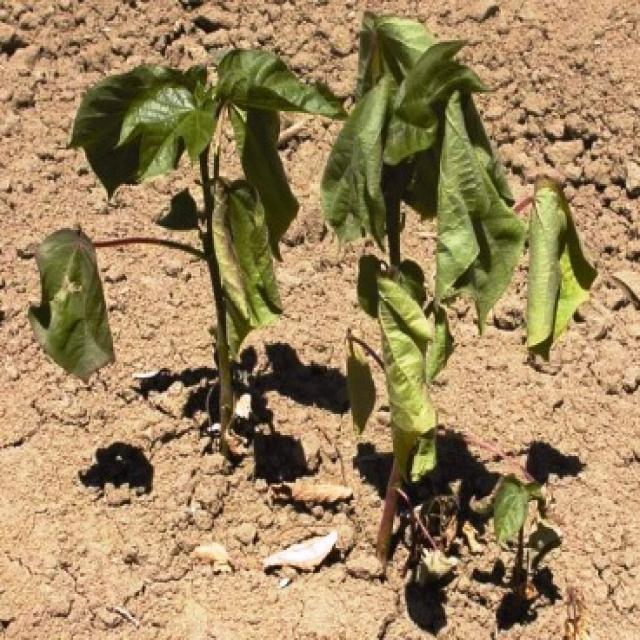Fusarium Wilt: (59, 40, 551, 613)
